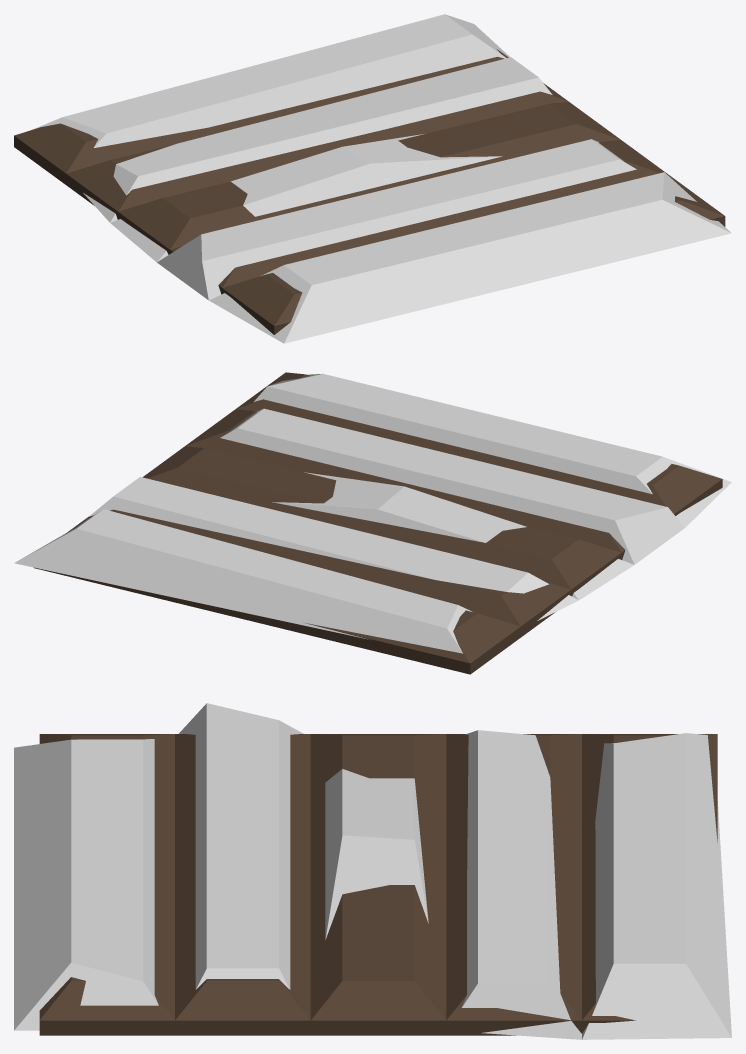
Rendered from farm_snow_mat.fbx.
3 views of the same model, one above another, from view 1: azimuth 30°, elevation 25°; view 2: azimuth 150°, elevation 25°; view 3: azimuth 270°, elevation 25° (orthographic). The views are drawn at different scales.
Parts seen in each view (by area): view 1: farm_snow_mat; view 2: farm_snow_mat; view 3: farm_snow_mat.
Boxes of the visible parts, x1=… form: farm_snow_mat: x1=14, y1=14, x2=731, y2=343; farm_snow_mat: x1=14, y1=372, x2=731, y2=674; farm_snow_mat: x1=14, y1=703, x2=731, y2=1039.
Size of the model in its own units: 248 by 19.59 by 247.
